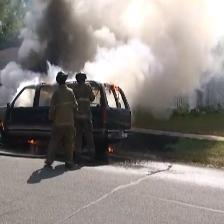smoke: (63, 18, 216, 97)
